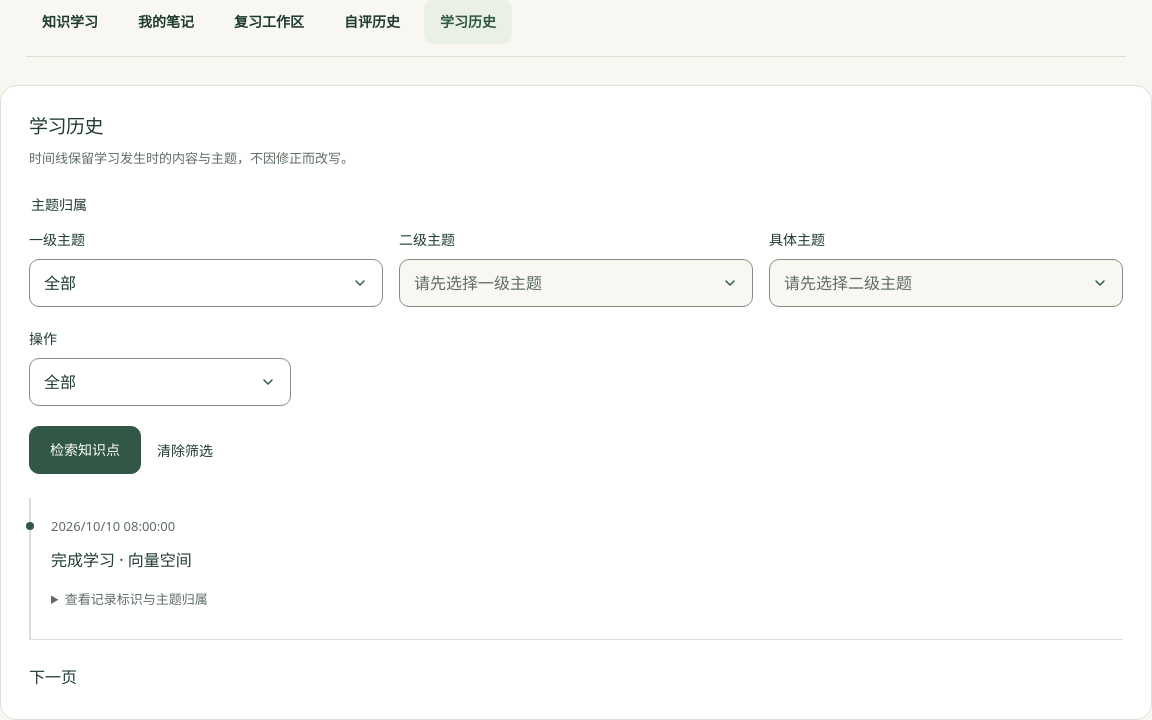
keeps unavailable history named but unlinked, and keeps the other paging cursor
(page scrolled)
Expected: the text "完成学习 · 向量空间" is shown, [51,549,192,571]
Click the heading "查看记录标识与主题归属" at x=136, y=599, box [65,590,208,608]
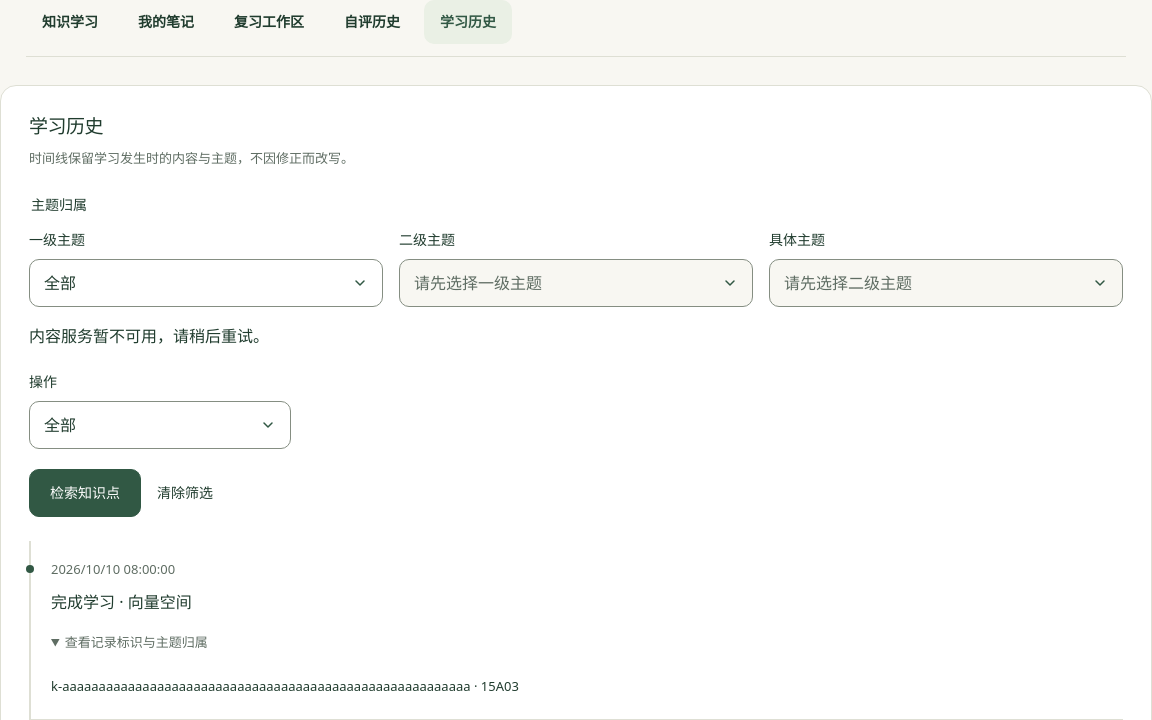
Result: the text "15A03" is shown at [481,677,519,695]
